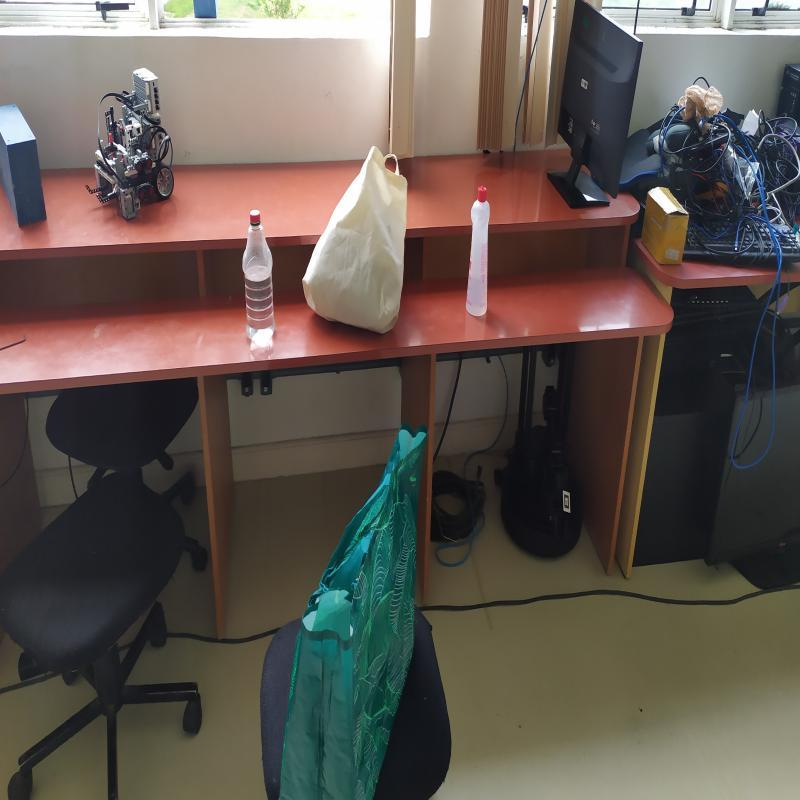Bag: (277, 415, 431, 800), (302, 146, 410, 330)
